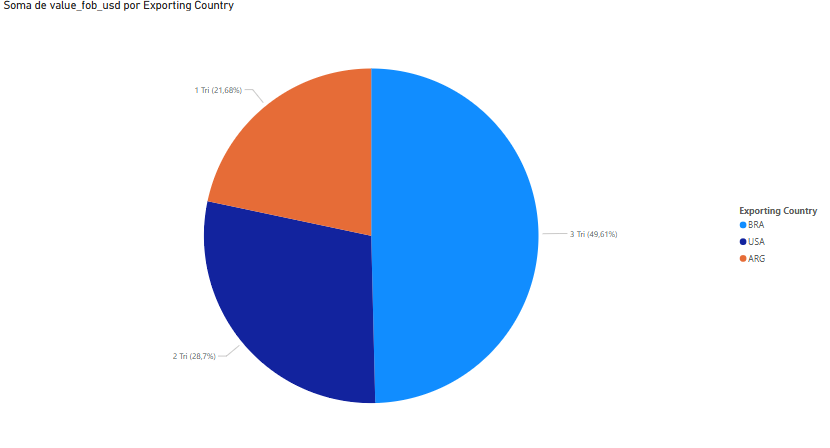

This screenshot's page, from the dashboard's own definition file:
{"tool":"powerbi","page":{"name":"g4","canvas":[1280,720],"ordinal":3},"visuals":[{"type":"pieChart","fields":{"Category":["clean_data_soyUNComtrade.Exporting Country"],"Y":["Sum(clean_data_soyUNComtrade.value_fob_usd)"]},"box":[0,0,1280,720.6],"z":0}]}

Visuals, with their boxes on the page's 1280x720 design canvas (x1, y1, x2, y2). These are canvas units, not pixel positions in the 830x448 screenshot, which may show the page scaled, cropped or inside an application window:
pieChart - clean_data_soyUNComtrade.Exporting Country x Sum(clean_data_soyUNComtrade.value_fob_usd): (x1=0, y1=0, x2=1280, y2=721)
